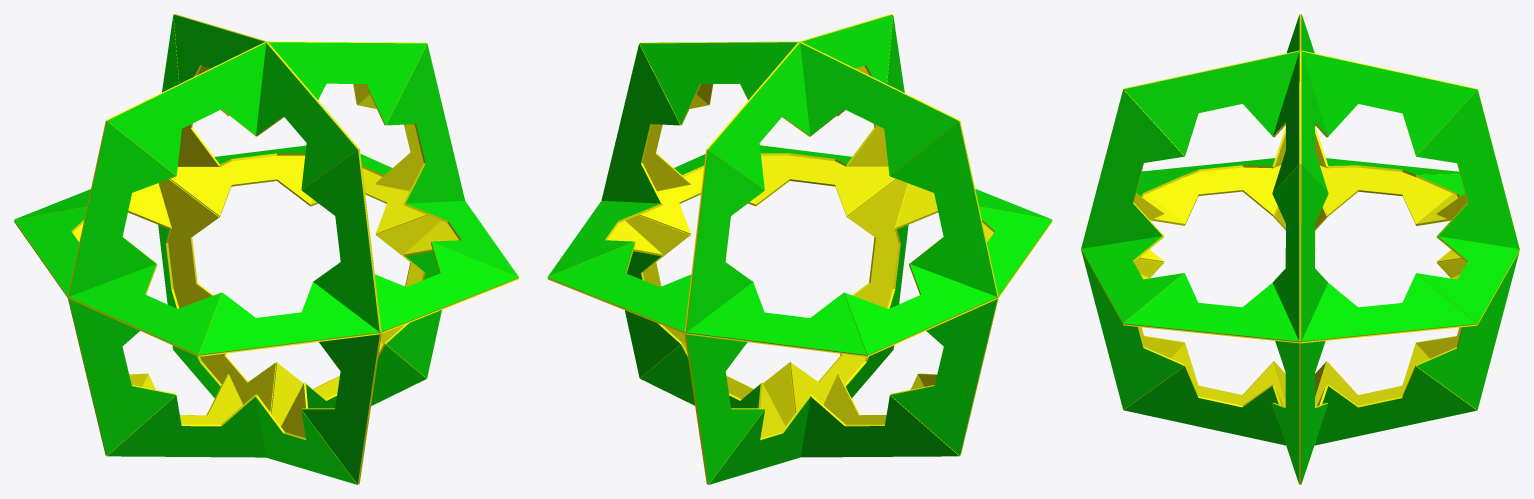
File: Mobius48aS.glb
The picture shows the model from 3 angles, left to right: view 1: azimuth 30°, elevation 25°; view 2: azimuth 150°, elevation 25°; view 3: azimuth 270°, elevation 25°; orthographic projection. The views are drawn at different scales.
Visible parts, largest first — view 1: Mesh_0007_1, Mesh_0007; view 2: Mesh_0007_1, Mesh_0007; view 3: Mesh_0007_1, Mesh_0007.
Part boxes in pixels (x1,y1,x2,y2): Mesh_0007_1: (14,14,518,484); Mesh_0007: (14,14,518,484); Mesh_0007_1: (548,14,1052,484); Mesh_0007: (547,14,1052,484); Mesh_0007_1: (1081,14,1519,484); Mesh_0007: (1081,14,1519,484).
Size of the model in its own units: 9.64 by 9.64 by 9.64.
